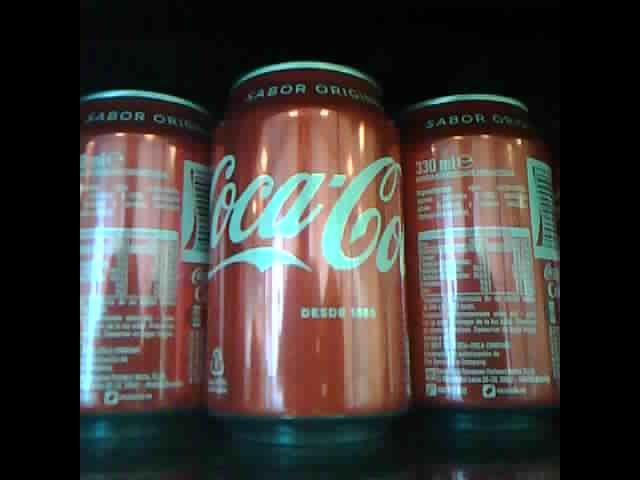coca cola: (205, 59, 405, 431), (409, 83, 557, 414), (82, 86, 206, 416)
